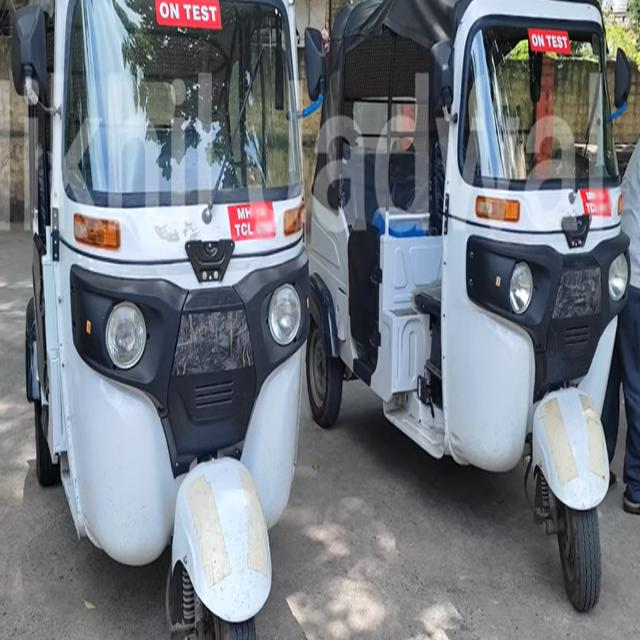autorickshaw: (305, 0, 630, 609), (11, 0, 309, 638)
